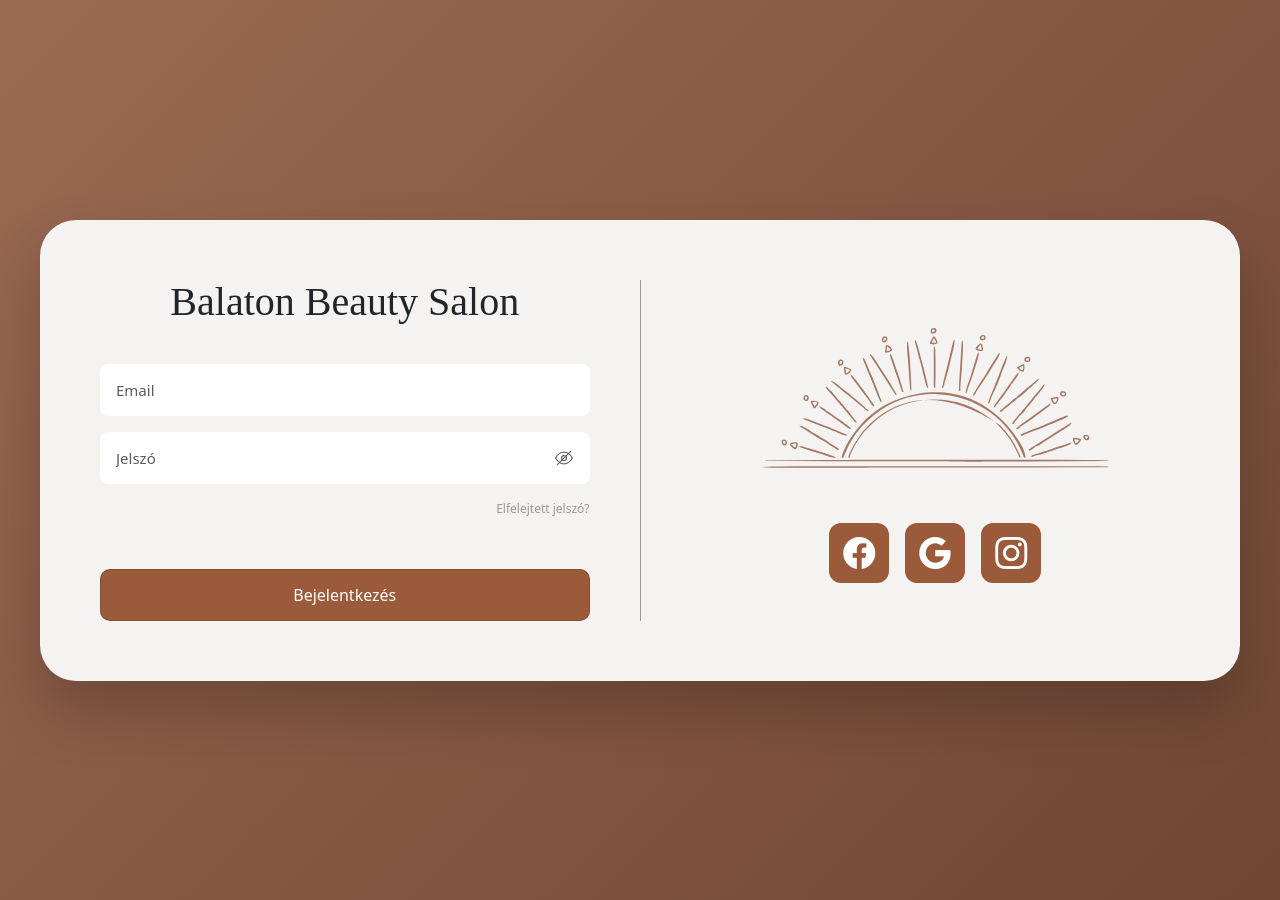
Login komponens › hibás bejelentkezés esetén hibaüzenetet mutat
Type "wrong@test.com" into the field with placeholder "Email". click: coordinates (345, 390)
box: [100,364,590,416]
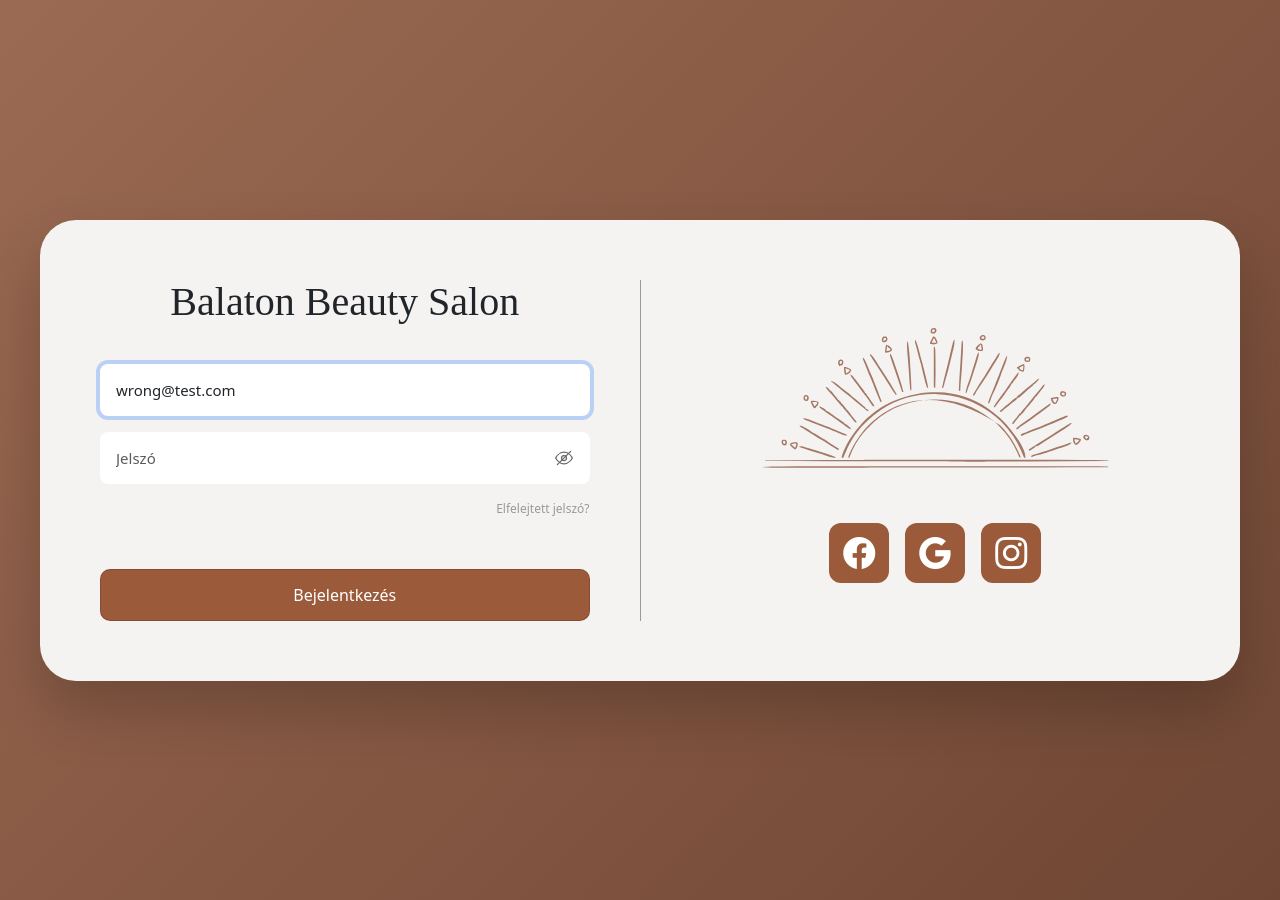
Type "wrongpass" into the password field with placeholder "Jelszó". click: coordinates (345, 458)
box: [100,432,590,484]
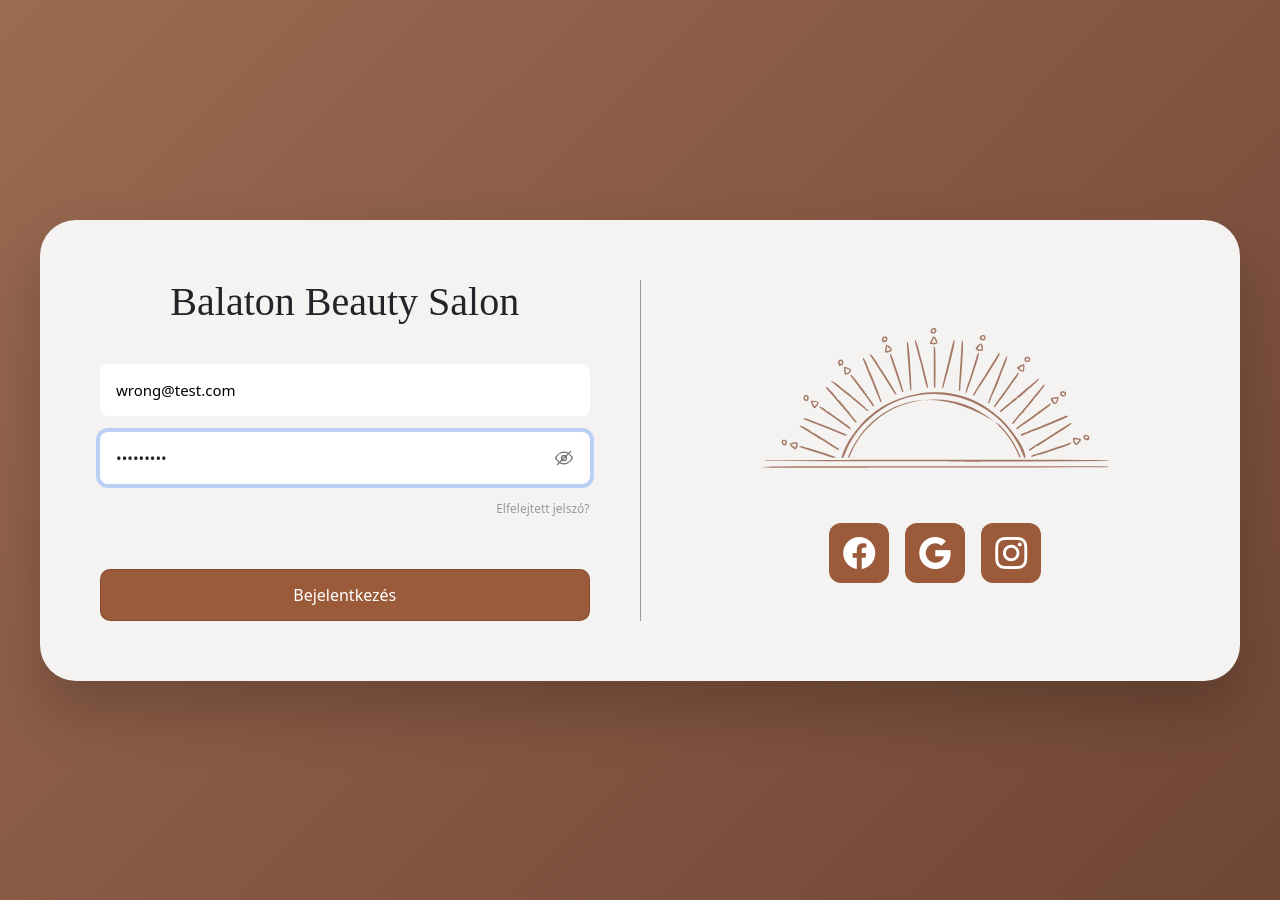
Click the button "Bejelentkezés". click: coordinates (345, 594)
box: [100,568,590,620]
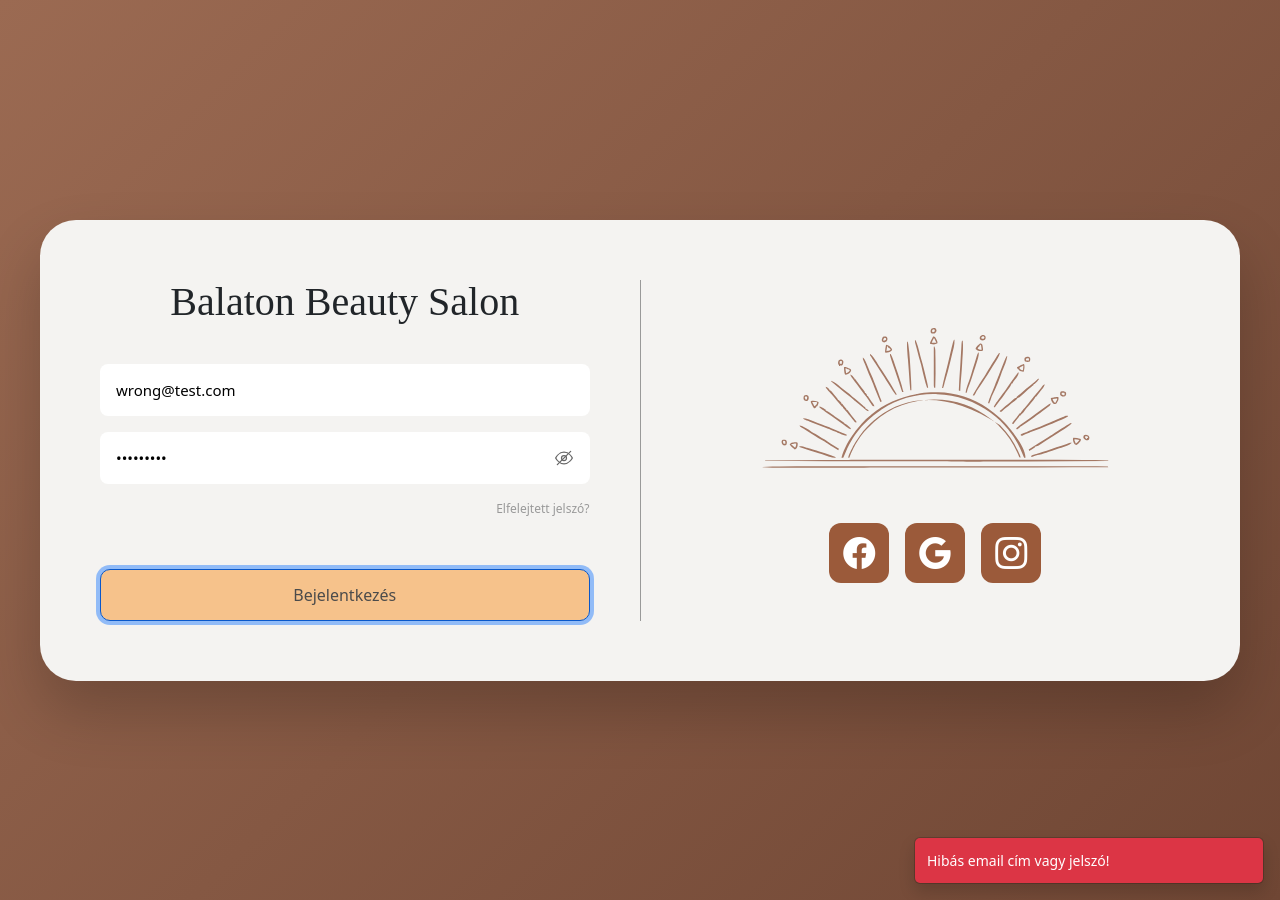
Expected: the text "Hibás email cím vagy jelszó!" is shown, [927,851,1110,870]
